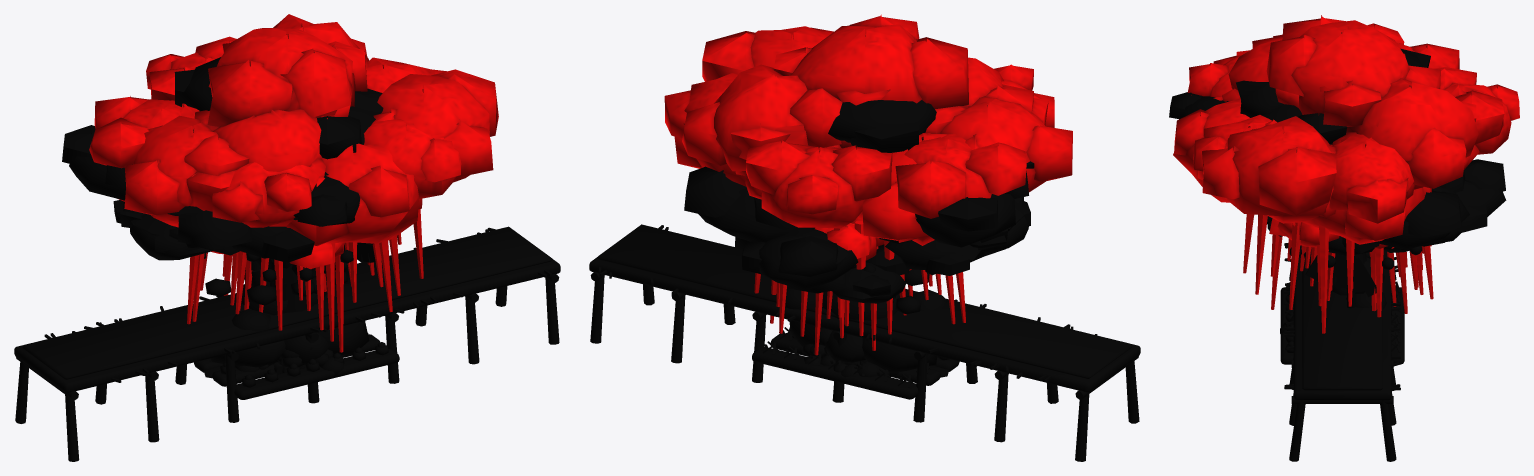
Rendered from fyard.glb.
3 views of the same model, side by side, from view 1: azimuth 30°, elevation 25°; view 2: azimuth 150°, elevation 25°; view 3: azimuth 270°, elevation 25° (orthographic). The views are drawn at different scales.
Visible parts, largest first — view 1: jeongja_leaf, seopdari, ft_zel_leaf, tree_big, ft_wil_leaf, ft_pine, bo_stone, teotbat, ft_pine2, seonang, gam_leaf, jeongja_trunk (+2 smaller); view 2: jeongja_leaf, seopdari, ft_zel_leaf, tree_big, ft_pine2, bo_stone, teotbat, ft_wil_leaf, gam_leaf, seonang, ft_bush, ft_pine; view 3: jeongja_leaf, ft_zel_leaf, seopdari, tree_big, ft_wil_leaf, ft_pine, seonang, teotbat, gam_leaf, bo_stone, gam_fruit.
Boxes of the visible parts, x1,y1,x2,y2 form: jeongja_leaf: [118, 14, 498, 246]; seopdari: [14, 226, 560, 461]; ft_zel_leaf: [89, 36, 461, 227]; tree_big: [62, 57, 383, 287]; ft_wil_leaf: [187, 209, 423, 352]; ft_pine: [118, 172, 360, 289]; bo_stone: [205, 263, 369, 367]; teotbat: [194, 334, 399, 399]; ft_pine2: [113, 200, 252, 287]; seonang: [235, 242, 375, 377]; gam_leaf: [211, 242, 343, 269]; jeongja_trunk: [256, 257, 313, 372]; jeongja_leaf: [674, 14, 1072, 245]; seopdari: [589, 224, 1140, 461]; ft_zel_leaf: [664, 64, 1054, 228]; tree_big: [684, 100, 1034, 298]; ft_pine2: [832, 201, 1030, 303]; bo_stone: [785, 269, 947, 372]; teotbat: [752, 327, 959, 399]; ft_wil_leaf: [754, 218, 965, 355]; gam_leaf: [815, 223, 883, 264]; seonang: [792, 336, 898, 377]; ft_bush: [814, 327, 865, 362]; ft_pine: [735, 139, 1024, 293]; jeongja_leaf: [1173, 15, 1478, 244]; ft_zel_leaf: [1187, 23, 1519, 223]; seopdari: [1284, 243, 1400, 461]; tree_big: [1236, 48, 1506, 249]; ft_wil_leaf: [1243, 214, 1433, 333]; ft_pine: [1169, 92, 1461, 255]; seonang: [1280, 253, 1403, 336]; teotbat: [1280, 281, 1404, 364]; gam_leaf: [1269, 218, 1394, 248]; bo_stone: [1303, 249, 1386, 309]; gam_fruit: [1258, 215, 1421, 270].
Size of the model in its own units: 12.4 by 8.38 by 8.26.
1 material, 1 textured.
